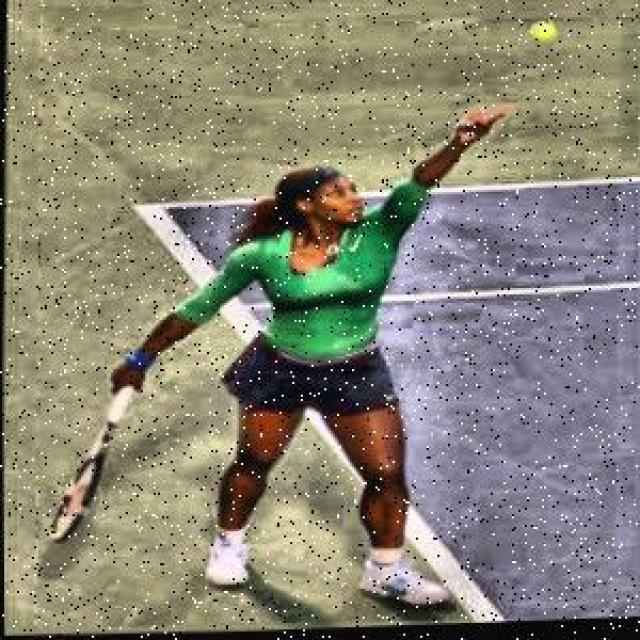tennis-ball: (529, 24, 553, 44)
